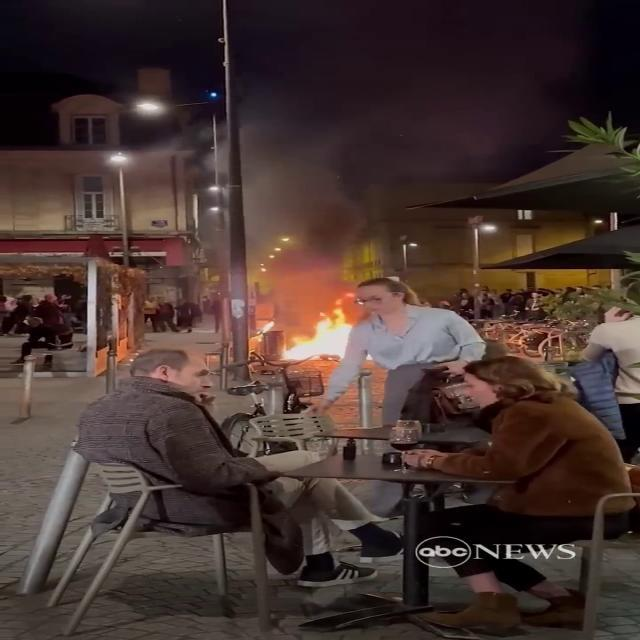Fire: (272, 303, 358, 366)
Smoke: (196, 88, 386, 306)
